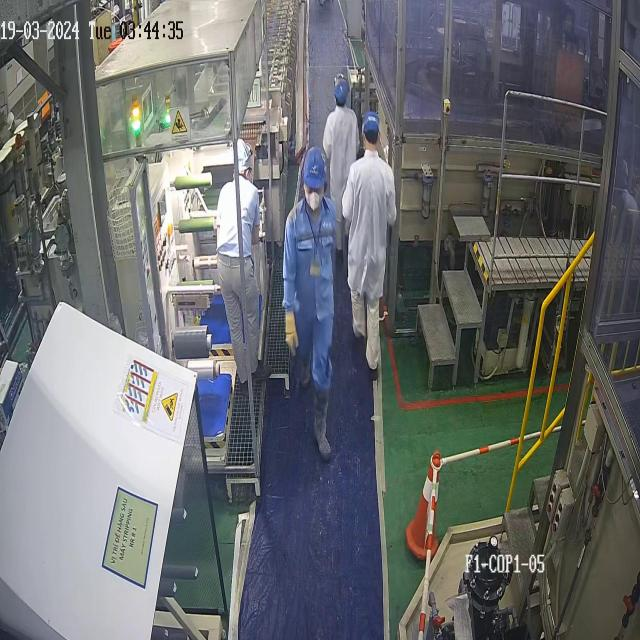Person: (282, 146, 338, 462), (341, 110, 397, 373), (215, 137, 270, 396), (322, 78, 360, 264)
